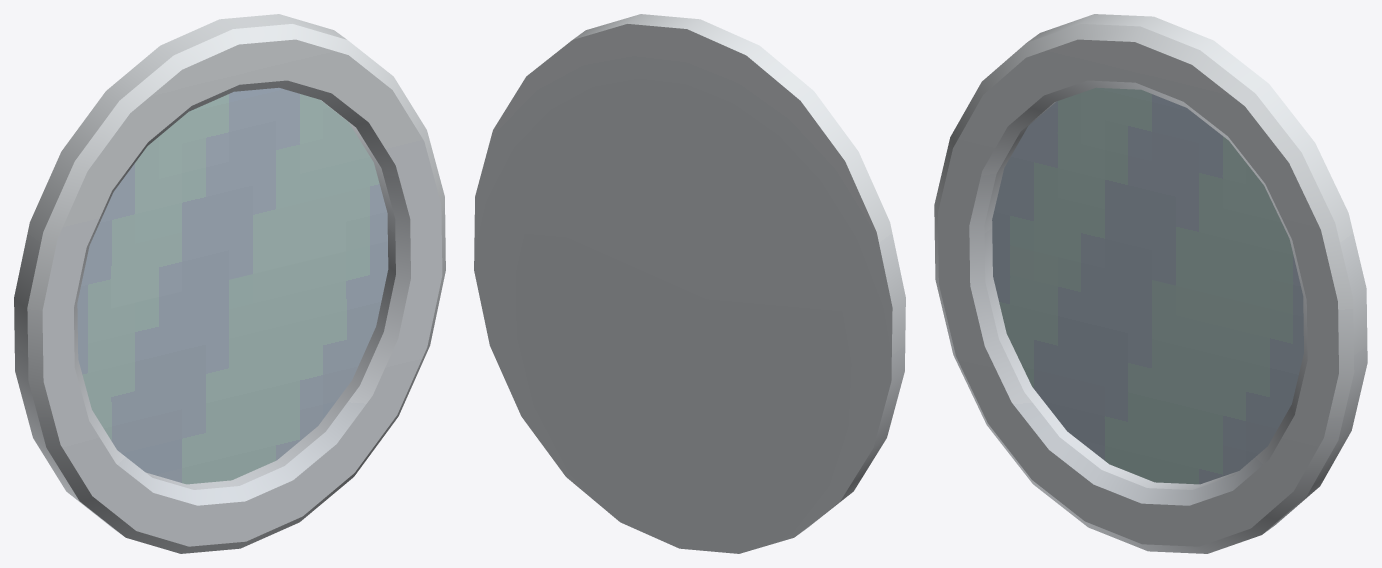
The model's file is bath-mirror.glb.
3 views of the same model, side by side, from view 1: azimuth 30°, elevation 25°; view 2: azimuth 150°, elevation 25°; view 3: azimuth 330°, elevation 25° (orthographic).
Parts seen in each view (by area): view 1: mirror; view 2: mirror; view 3: mirror.
Boxes of the visible parts, left/top/right/bottom form: mirror: left=14, top=14, right=445, bottom=553; mirror: left=474, top=14, right=905, bottom=553; mirror: left=934, top=14, right=1367, bottom=553.
Bounding box in the file's own units: 1.26 × 1.5 × 0.1.
Materials: 1 (1 with a texture image).
